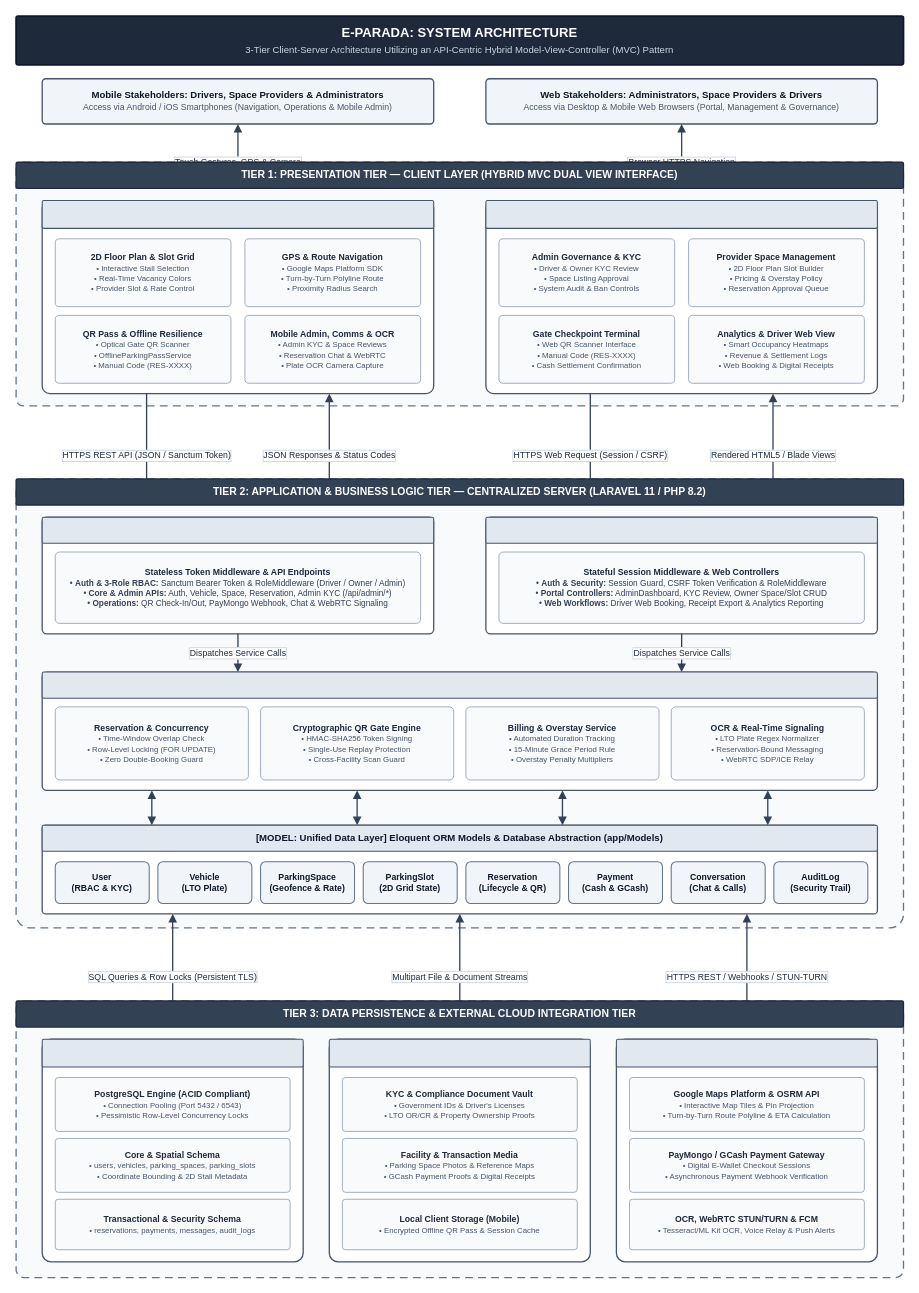
Image size: 919x1293. Some labels were removed from this diagram. The box of each missing label's shape, as (x1, y1, x2, y2) in pixels:
[CONTROLLER: API] RESTful API Controllers (routes/api.php): (41, 516, 434, 543)
[CONTROLLER: Web] Web MVC Controllers (routes/web.php): (485, 516, 877, 543)
[VIEW: Client-Side] Flutter Cross-Platform Mobile Client (Dart 3.x): (41, 200, 434, 228)
[VIEW: Server-Side] Responsive Web Portal (Laravel Blade / Tailwind CSS): (485, 200, 877, 228)
Cloud Relational Database (Supabase): (41, 1038, 303, 1067)
CORE DOMAIN SERVICES & BUSINESS LOGIC ENGINE (app/Services & app/Support): (41, 671, 877, 698)
External Cloud APIs & Gateways: (615, 1038, 877, 1067)
Object & Document Storage Layer: (328, 1038, 590, 1067)
